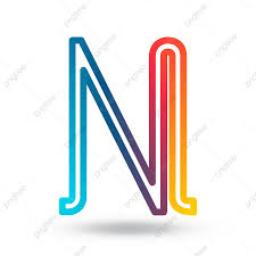n: (54, 22, 206, 228)
